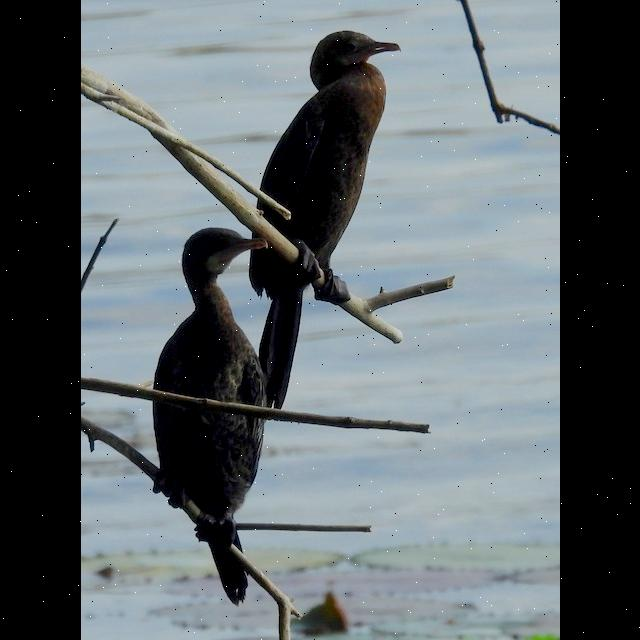cormorant: (254, 19, 406, 404), (150, 223, 272, 611)
